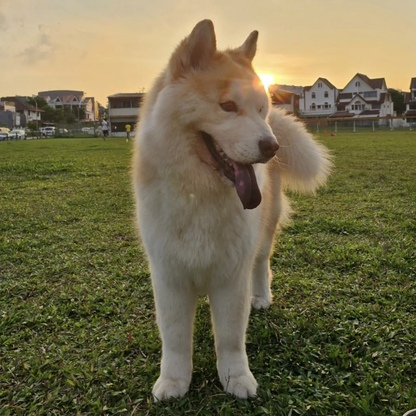husky: (127, 14, 338, 400)
